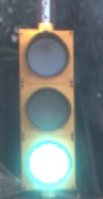Green: (13, 14, 79, 196)
